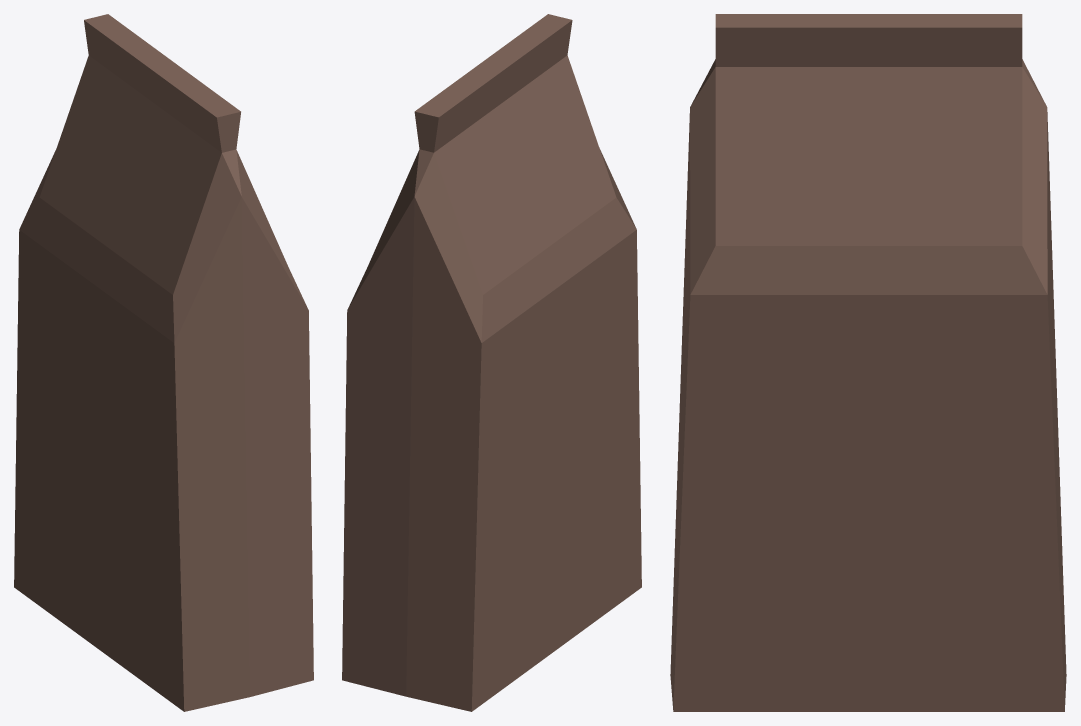
Rendered from CoffeBag.fbx.
3 renders of one model, left to right at view 1: azimuth 30°, elevation 25°; view 2: azimuth 150°, elevation 25°; view 3: azimuth 270°, elevation 25°, orthographic. The views are drawn at different scales.
Parts seen in each view (by area): view 1: Coffe; view 2: Coffe; view 3: Coffe.
Boxes of the visible parts, <box> form: Coffe: <box>14,14,313,711</box>; Coffe: <box>342,14,641,711</box>; Coffe: <box>670,14,1066,711</box>.
Size of the model in its own units: 7.74 by 31.25 by 17.16.
1 material, 1 textured.
